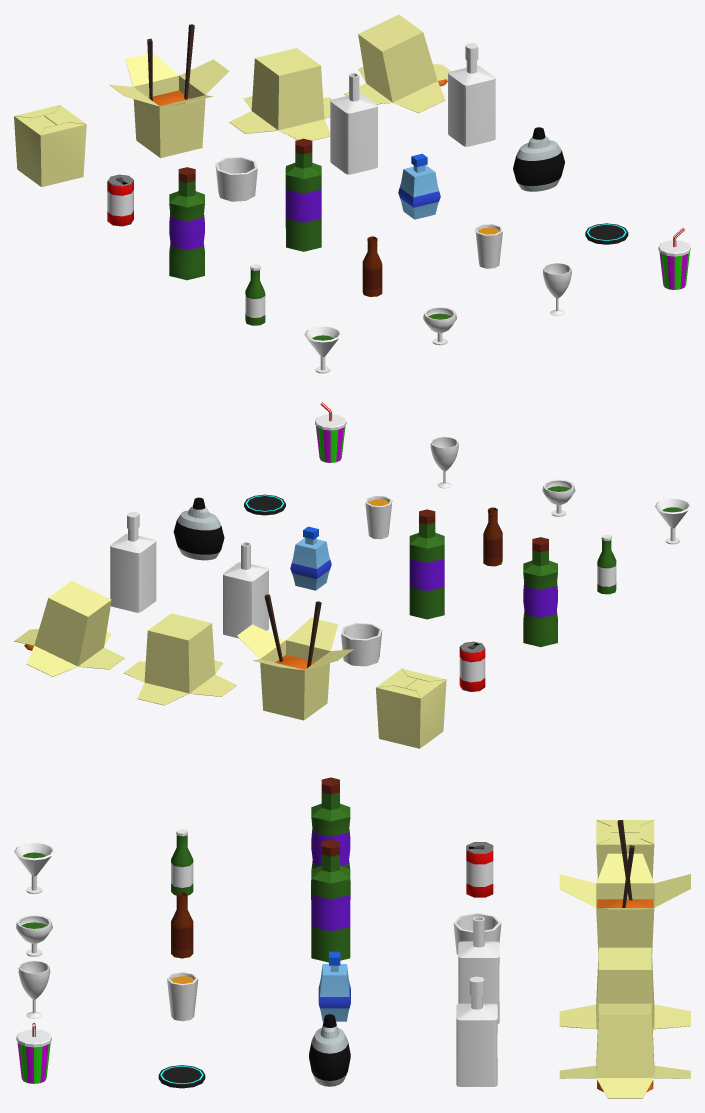
Rendered from Props_B.fbx.
3 views of the same model, one above another, from view 1: azimuth 30°, elevation 25°; view 2: azimuth 150°, elevation 25°; view 3: azimuth 270°, elevation 25° (orthographic). The views are drawn at different scales.
Parts seen in each view (by area): view 1: Box, Box001, Box002, Box003, Bottle2, Bottle, Bottle4, Bottle3, Bottle6, Box004, Glass, CupWithStraw (+8 smaller); view 2: Box001, Box002, Box, Box003, Bottle2, Bottle4, Bottle3, Bottle, Bottle6, Box004, Glass, CupWithStraw (+8 smaller); view 3: Box002, Box, Box001, Bottle4, Bottle2, Bottle, Bottle3, Bottle6, Box003, Box004, CupWithStraw, Can (+8 smaller).
Part boxes in pixels (x1,y1,x2,y2): Box: (109, 52, 229, 158); Box001: (229, 48, 332, 140); Box002: (344, 14, 450, 113); Box003: (14, 105, 86, 187); Bottle2: (448, 43, 495, 146); Bottle: (330, 73, 377, 174); Bottle4: (285, 138, 321, 251); Bottle3: (169, 167, 204, 280); Bottle6: (513, 127, 564, 191); Box004: (398, 153, 440, 219); Glass: (215, 157, 257, 201); CupWithStraw: (658, 227, 690, 289); Box001: (124, 613, 236, 705); Box002: (14, 581, 124, 676); Box: (237, 617, 353, 720); Box003: (375, 668, 446, 748); Bottle2: (110, 511, 156, 612); Bottle4: (409, 509, 444, 619); Bottle3: (523, 537, 557, 647); Bottle: (223, 542, 268, 638); Bottle6: (173, 497, 224, 560); Box004: (290, 526, 331, 590); Glass: (341, 623, 382, 666); CupWithStraw: (315, 402, 346, 462); Box002: (559, 1003, 690, 1098); Box: (559, 853, 690, 955); Box001: (559, 947, 690, 1030); Bottle4: (311, 839, 350, 962); Bottle2: (456, 976, 497, 1086); Bottle: (458, 916, 499, 1024); Bottle3: (311, 777, 350, 868); Bottle6: (309, 1014, 350, 1086); Box003: (596, 820, 654, 878); Box004: (318, 951, 350, 1021); CupWithStraw: (16, 1022, 51, 1083); Can: (466, 842, 493, 897).
Bounding box in the file's own units: 36.1 × 9.28 × 45.82.
